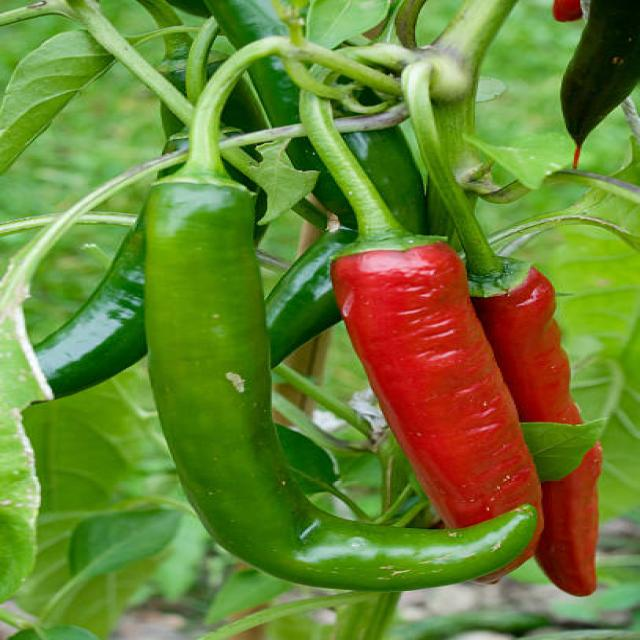Ripe: (332, 243, 539, 526), (475, 269, 601, 597)
Unripe: (145, 182, 536, 589), (35, 216, 145, 397), (266, 229, 355, 366)
